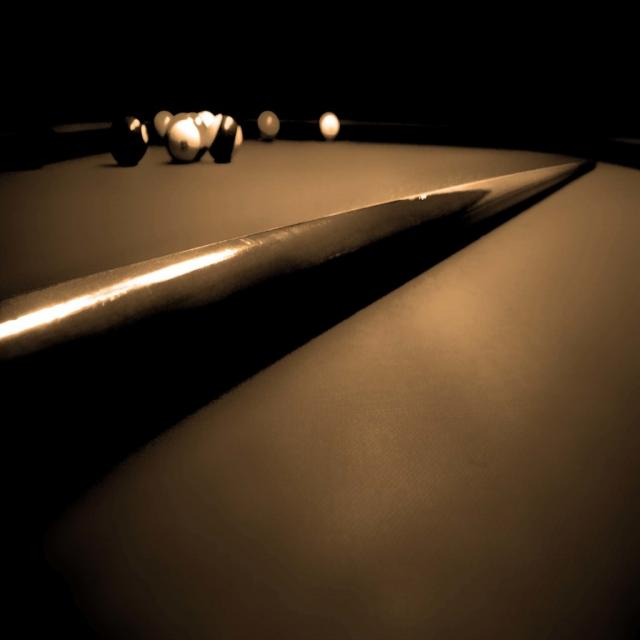Billiard table: (0, 112, 639, 639)
